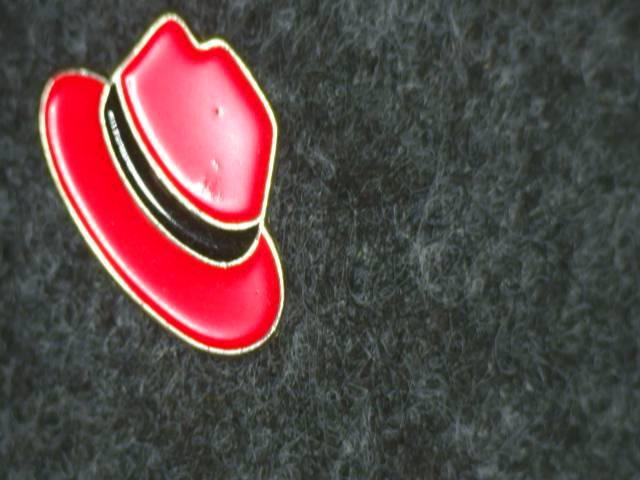Red-Hat: (10, 2, 299, 396)
